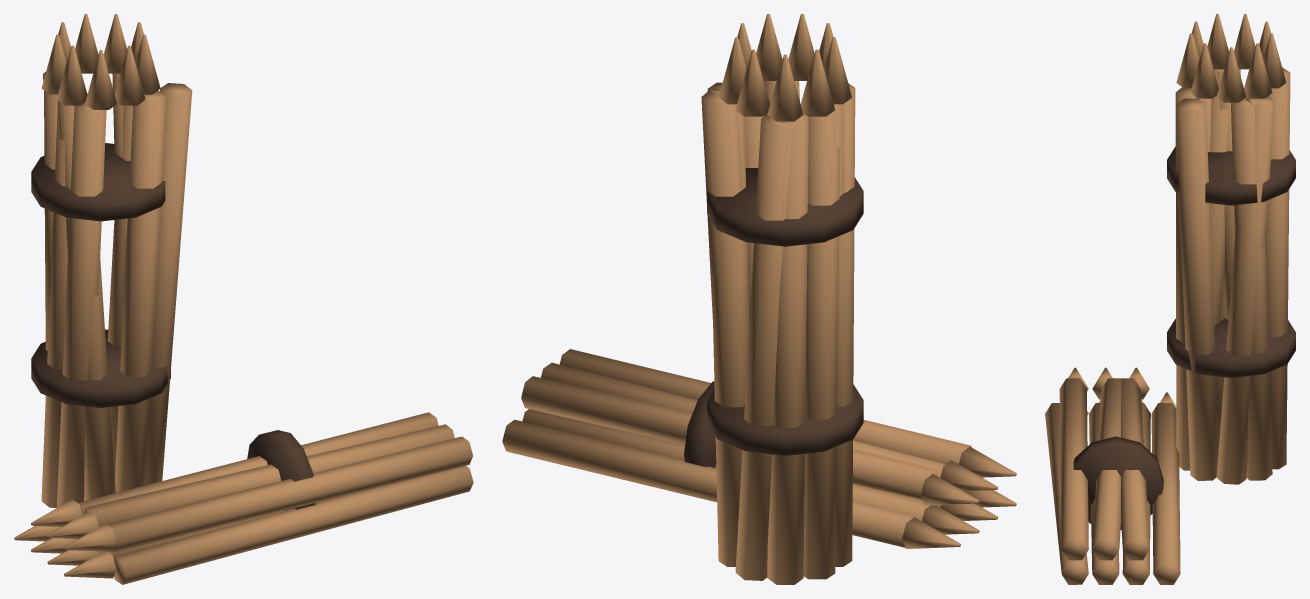
Rendered from stake_bundle.glb.
3 views of the same model, side by side, from view 1: azimuth 30°, elevation 25°; view 2: azimuth 150°, elevation 25°; view 3: azimuth 270°, elevation 25° (orthographic). The views are drawn at different scales.
Visible parts, largest first — view 1: stake_bundle; view 2: stake_bundle; view 3: stake_bundle.
Part boxes in pixels (x1,y1,x2,y2): stake_bundle: (14,14,473,584); stake_bundle: (502,14,1016,584); stake_bundle: (1045,14,1295,584).
Size of the model in its own units: 0.6309 by 0.72 by 0.3695.
